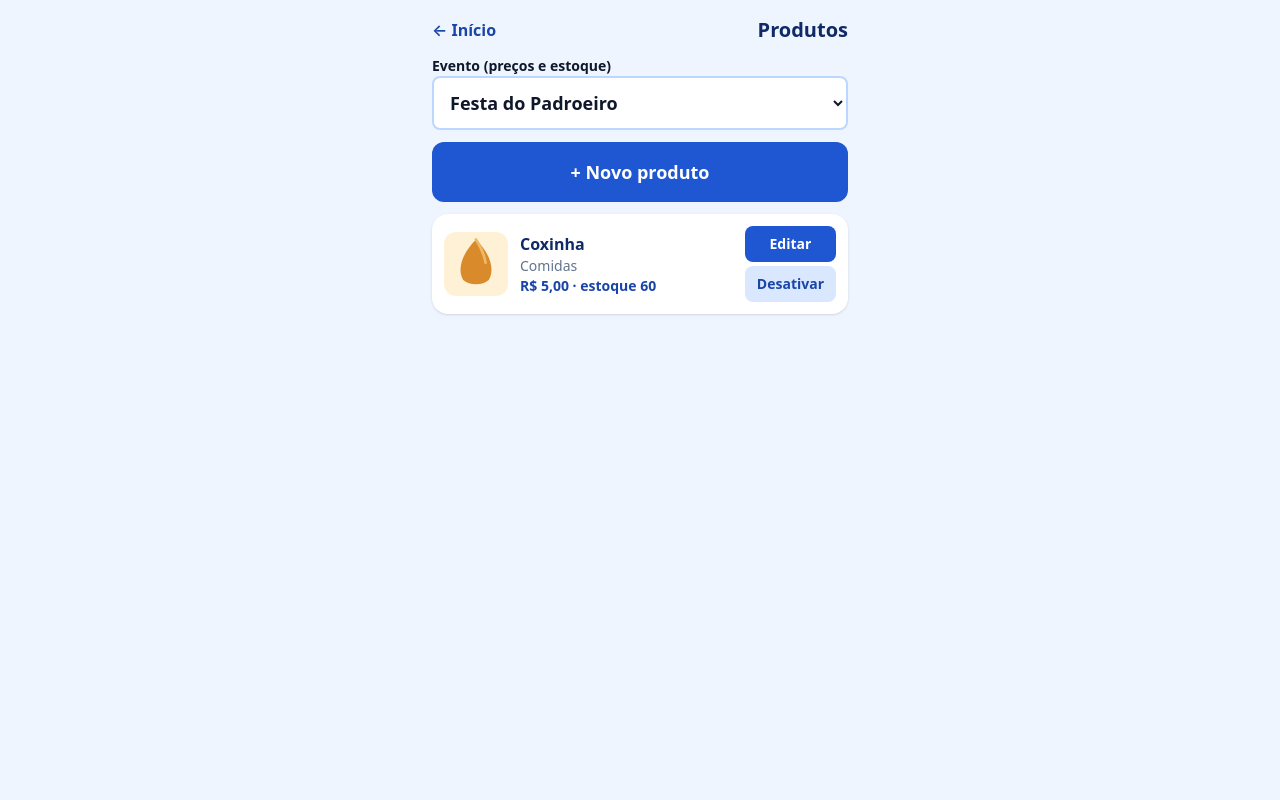
it: cadastro de produtos › editar: abre preenchido, altera nome e preço do evento; remessa de estoque chama a função certa
Click the button "Editar".
click(790, 244)  # box x1=745 y1=226 x2=836 y2=262
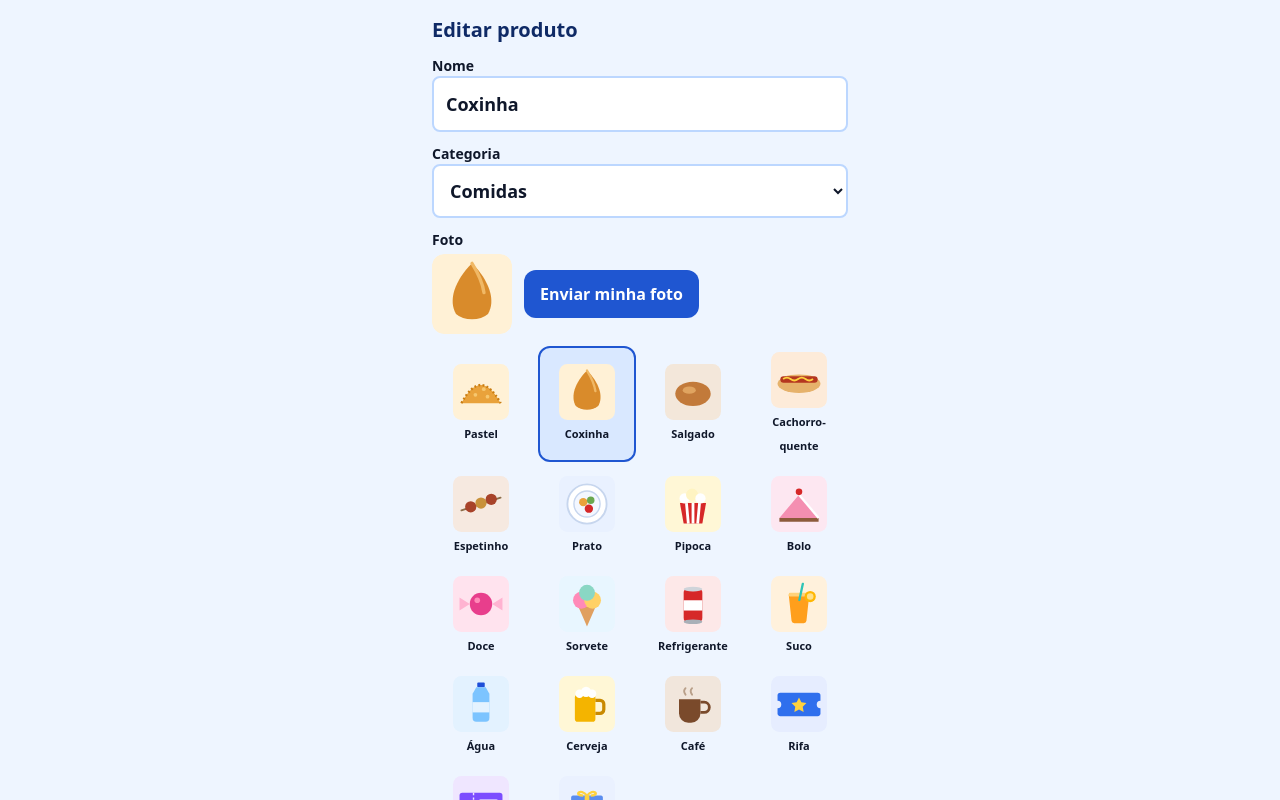
Check: the field labelled "Nome" holds "Coxinha"
Replace the text in the field labelled "Nome" with "Coxinha de frango" at {"x": 640, "y": 104}, box x1=432 y1=76 x2=848 y2=132
(page scrolled)
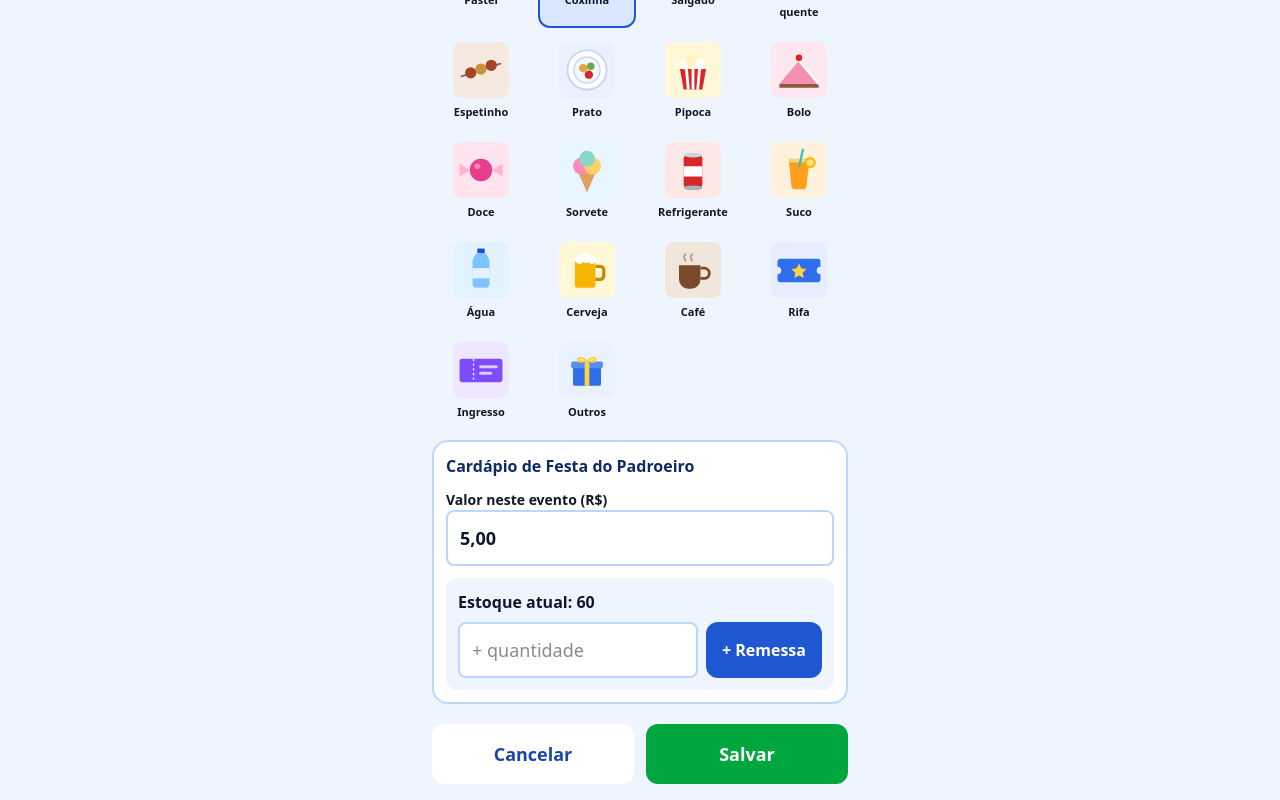
Replace the text in the field labelled "Valor" with "5,50" at {"x": 640, "y": 538}, box x1=446 y1=510 x2=834 y2=566
Click the button "Salvar".
click(747, 754)  # box x1=646 y1=724 x2=848 y2=784
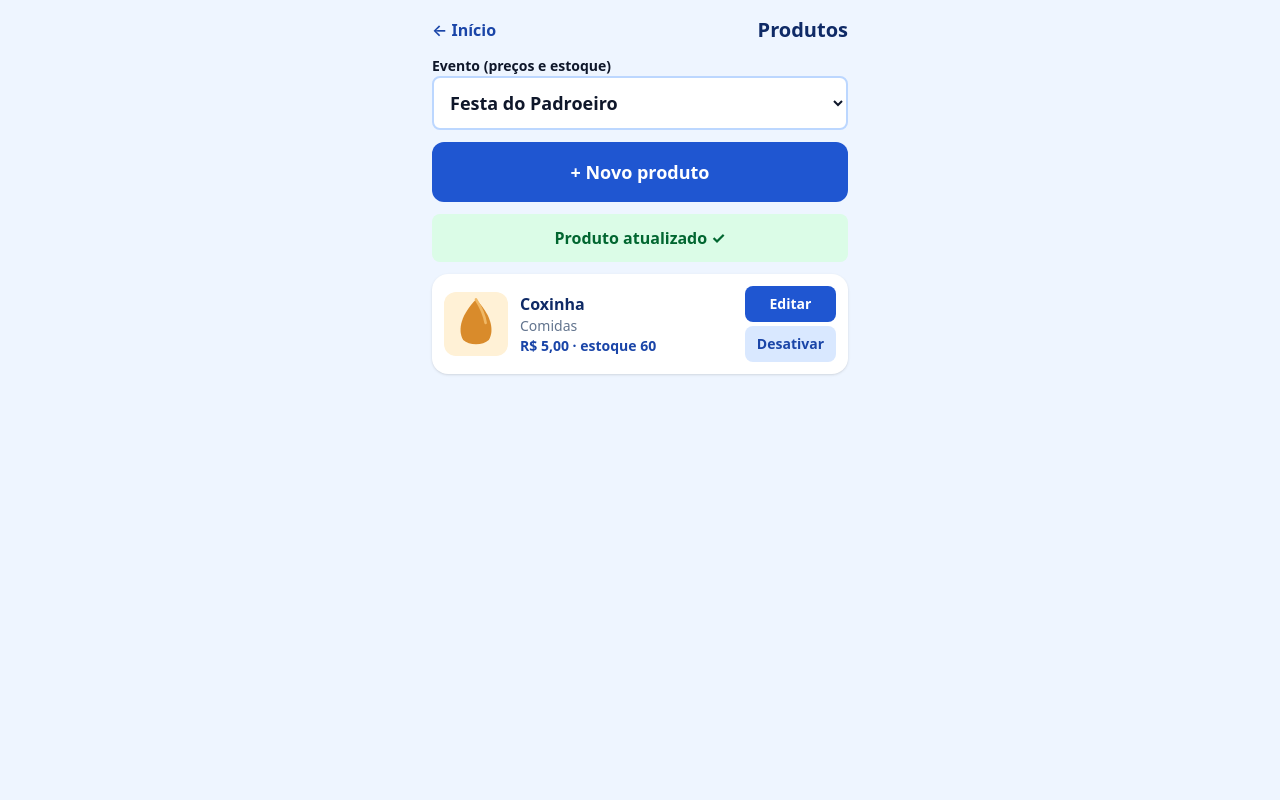
Check: the text "Produto atualizado ✓" is shown, box x1=432 y1=214 x2=848 y2=262
Click the button "Editar".
click(790, 304)  # box x1=745 y1=286 x2=836 y2=322
(page scrolled)
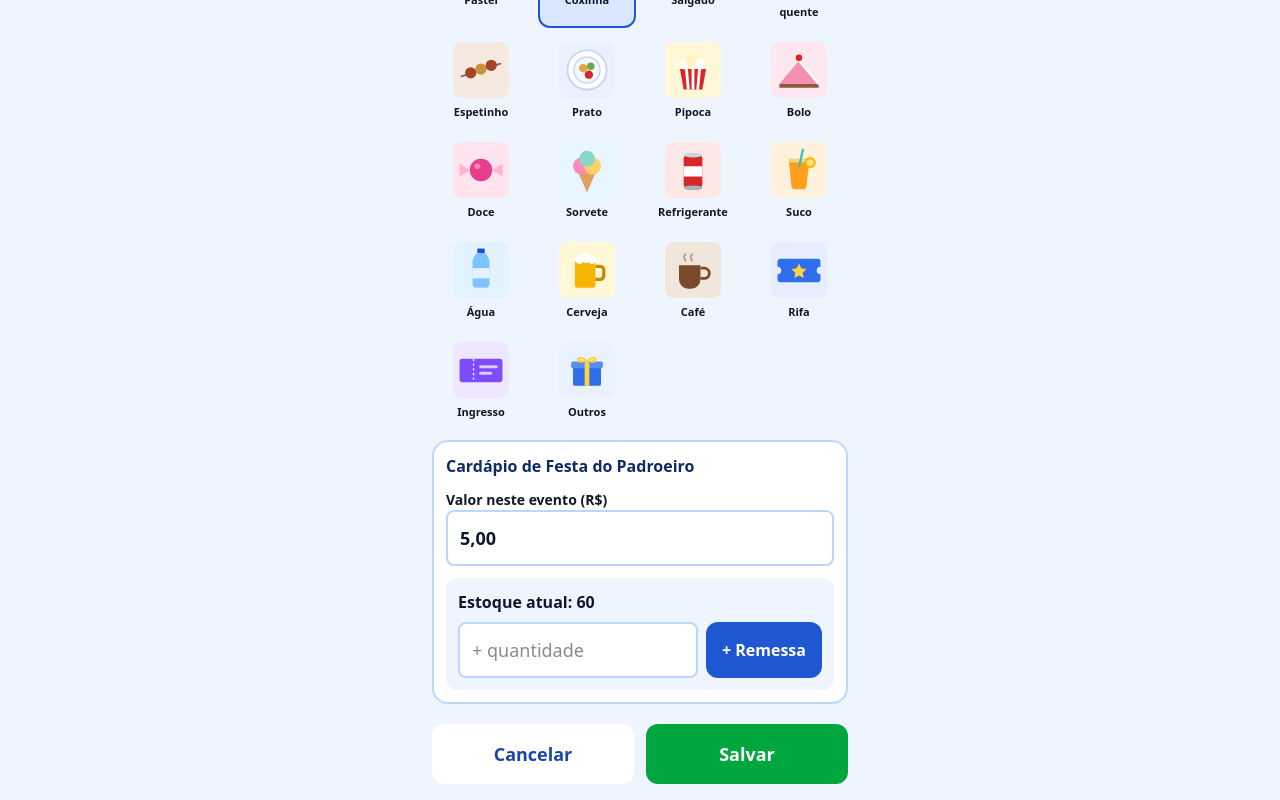
Type "50" into the field named "Remessa".
click(578, 650); type("50")  # box x1=458 y1=622 x2=698 y2=678
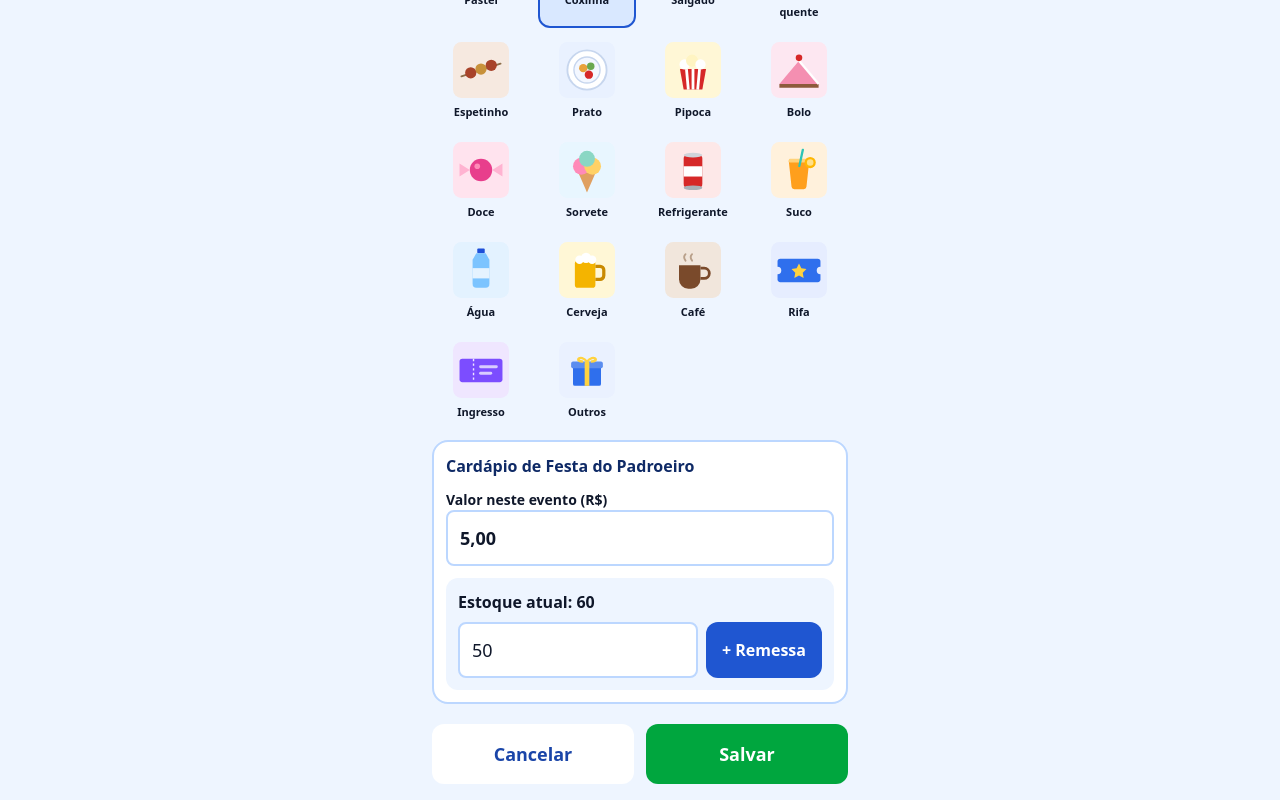
Click the button "+ Remessa".
click(764, 650)  # box x1=706 y1=622 x2=822 y2=678
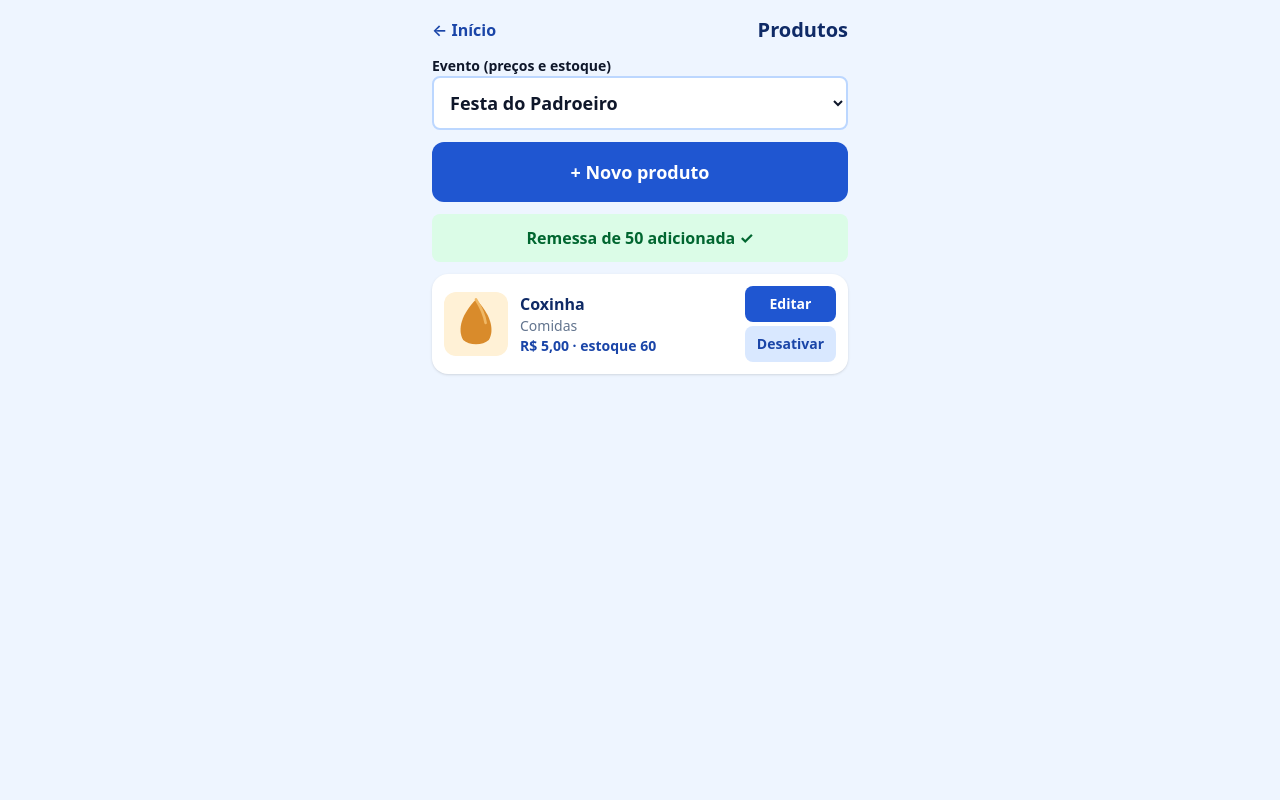
Check: the text "Remessa de 50 adicionada ✓" is shown, box x1=432 y1=214 x2=848 y2=262
